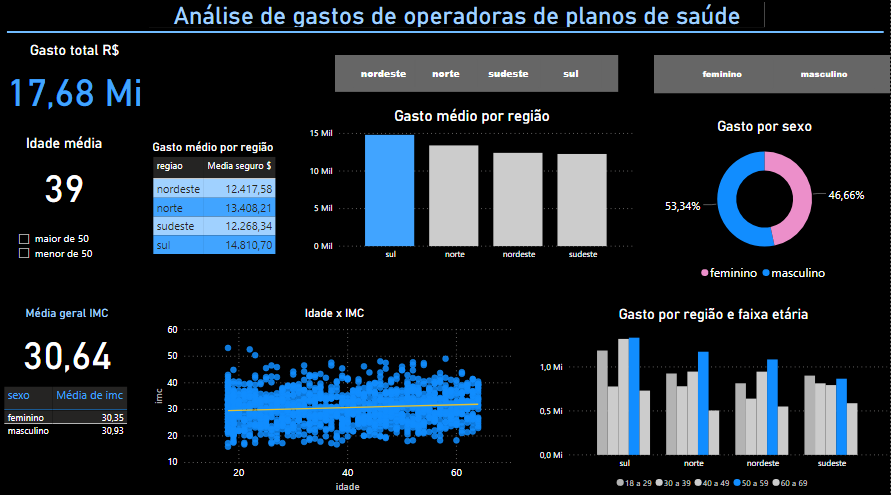

The page's visual inventory and layout, read from the dashboard file:
{"tool":"powerbi","page":{"name":"Página 1","canvas":[1280,720],"ordinal":0},"visuals":[{"type":"card","title":"Gasto total R$","fields":{"Values":["Medidas.Total seguro $"]},"box":[0,69,214.1,109.2],"z":0},{"type":"card","title":"Idade média","fields":{"Values":["Medidas.Idade media"]},"box":[0,202.6,184,119.3],"z":1000},{"type":"columnChart","title":"Gasto médio por região","fields":{"Category":["seguro_saude.regiao"],"Y":["Medidas.Media seguro $"]},"box":[439.8,162.4,477.1,229.9],"z":2000},{"type":"donutChart","title":"Gasto por sexo","fields":{"Category":["seguro_saude.sexo"],"Y":["Medidas.Total seguro $"]},"box":[916.9,178.2,363.6,242.9],"z":3000},{"type":"clusteredColumnChart","title":"Gasto por região e  faixa etária","fields":{"Y":["Medidas.Total seguro $"],"Category":["seguro_saude.regiao"],"Series":["seguro_saude.Faixa etária"]},"box":[770.3,448.4,510.2,271.6],"z":4000},{"type":"textbox","title":"Análise de gastos  de operadoras de planos de saúde","box":[214.1,11.5,885.3,35.9],"z":5000},{"type":"scatterChart","title":"Idade x IMC","fields":{"X":["seguro_saude.idade"],"Y":["seguro_saude.imc"]},"box":[214.1,448.4,533.2,271.6],"z":6000},{"type":"card","title":"Média geral IMC","fields":{"Values":["Medidas.Média geral IMC"]},"box":[0,448.4,192.6,110.7],"z":7000},{"type":"slicer","title":"Idade","fields":{"Values":["seguro_saude.Meia-idadade"]},"box":[14.4,334.9,162.4,57.5],"z":9000},{"type":"slicer","fields":{"Values":["seguro_saude.regiao"]},"box":[481.4,87.7,406.7,53.2],"z":10000},{"type":"slicer","fields":{"Values":["seguro_saude.sexo"]},"box":[939.9,87.7,340.6,54.6],"z":11000},{"type":"basicShape","box":[0,21.6,1280.5,66.1],"z":12000},{"type":"tableEx","title":"Gasto médio por região","fields":{"Values":["seguro_saude.regiao","Medidas.Media seguro $"]},"box":[214.1,209.8,202.6,182.5],"z":13000},{"type":"tableEx","fields":{"Values":["seguro_saude.sexo","Avg(seguro_saude.imc)"]},"box":[0,559,192.6,107.8],"z":13001}]}

Visuals, with their boxes in screenshot pixels (x1, y1, x2, y2), scaled from the page's 1280x720 canvas onto the 891x495 screenshot:
"Gasto total R$" card: box=[0, 47, 149, 123]
"Idade média" card: box=[0, 139, 128, 221]
"Gasto médio por região" columnChart: box=[306, 112, 638, 270]
"Gasto por sexo" donutChart: box=[638, 123, 890, 290]
"Gasto por região e  faixa etária" clusteredColumnChart: box=[536, 308, 890, 494]
"Análise de gastos  de operadoras de planos de saúde" textbox: box=[149, 8, 765, 33]
"Idade x IMC" scatterChart: box=[149, 308, 520, 494]
"Média geral IMC" card: box=[0, 308, 134, 384]
"Idade" slicer: box=[10, 230, 123, 270]
slicer - seguro_saude.regiao: box=[335, 60, 618, 97]
slicer - seguro_saude.sexo: box=[654, 60, 890, 98]
basicShape: box=[0, 15, 890, 60]
"Gasto médio por região" tableEx: box=[149, 144, 290, 270]
tableEx - seguro_saude.sexo x Avg(seguro_saude.imc): box=[0, 384, 134, 458]
